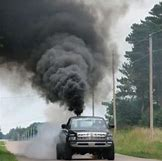smoke: (1, 1, 110, 115)
